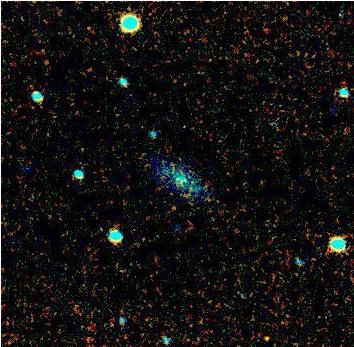star: (250, 323, 280, 347)
